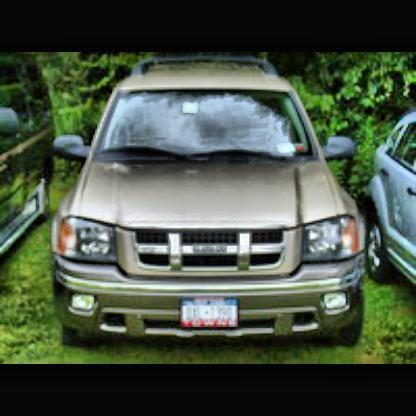Isuzu Ascender SUV 2008: (59, 69, 381, 339)
